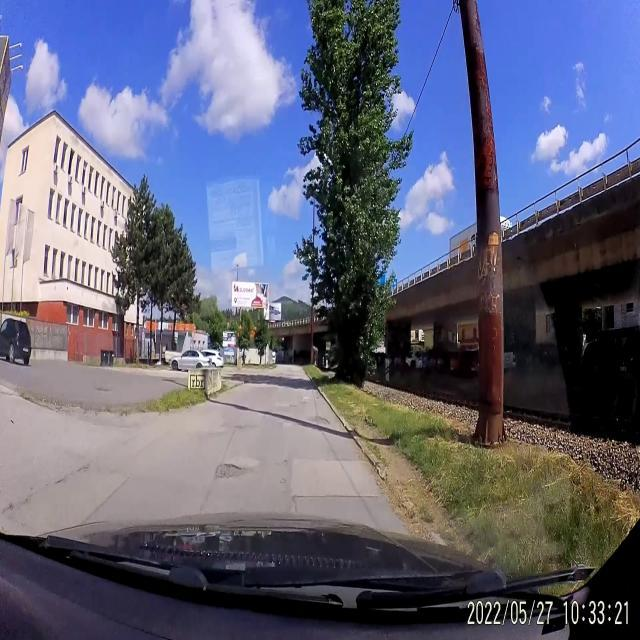Pothole: (214, 458, 248, 480)
